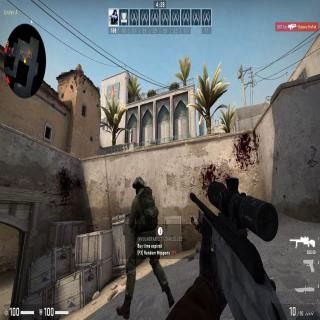CT-Body: (116, 172, 174, 318)
CT-Head: (131, 176, 149, 194)
